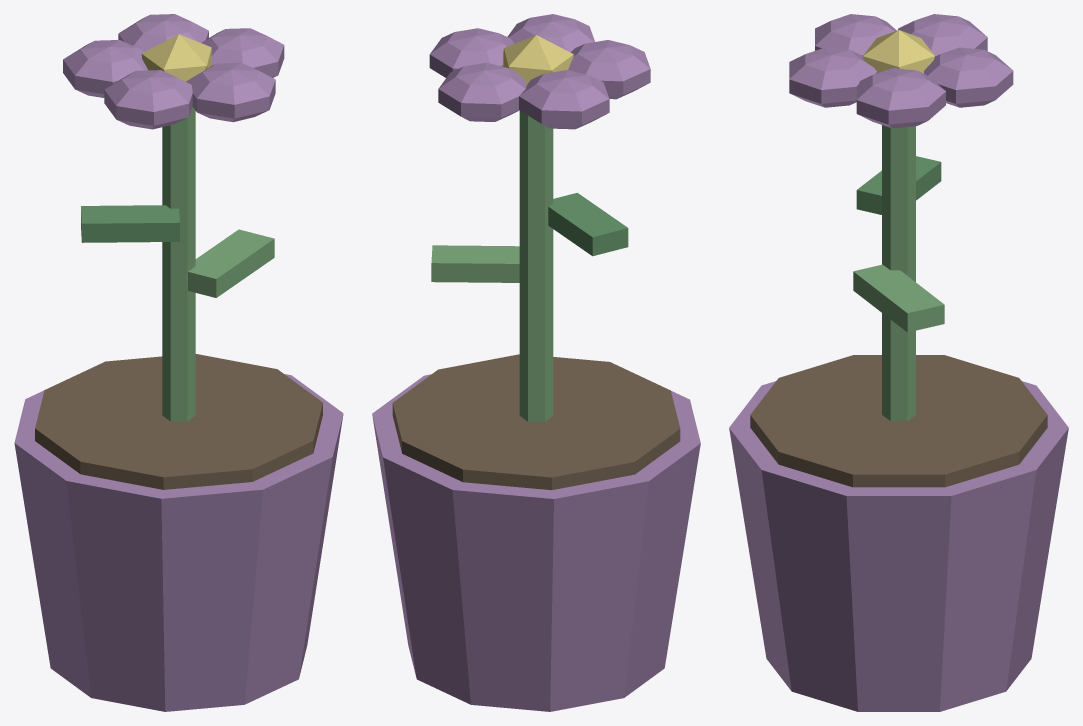
Rendered from pla_flor_coz.glb.
3 renders of one model, left to right at view 1: azimuth 30°, elevation 25°; view 2: azimuth 150°, elevation 25°; view 3: azimuth 270°, elevation 25°, orthographic.
Parts seen in each view (by area): view 1: PLA_FLOR_COZ_v01; view 2: PLA_FLOR_COZ_v01; view 3: PLA_FLOR_COZ_v01.
Boxes of the visible parts, box(x1,y1,x2,y2) form: PLA_FLOR_COZ_v01: box(14, 14, 343, 711); PLA_FLOR_COZ_v01: box(372, 14, 700, 711); PLA_FLOR_COZ_v01: box(729, 14, 1068, 711).
Bounding box in the file's own units: 0.2283 × 0.49 × 0.24.
